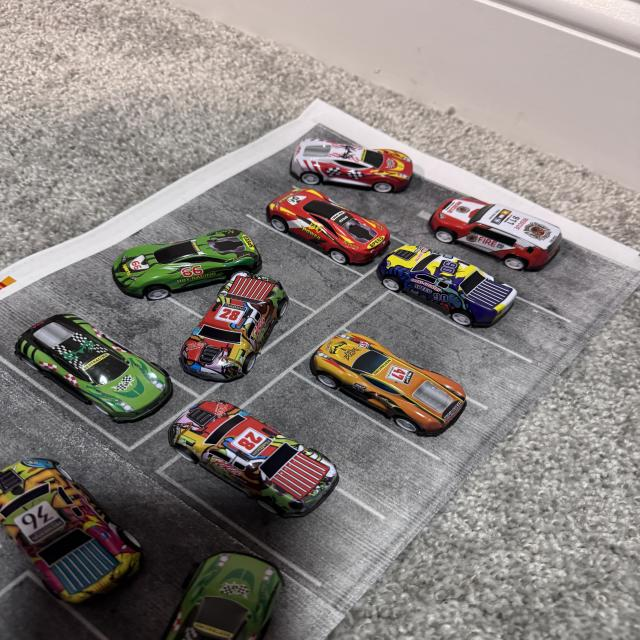car: (134, 368, 358, 554), (0, 319, 205, 457), (0, 447, 158, 613), (148, 535, 339, 640), (369, 220, 541, 332), (251, 178, 400, 300), (323, 315, 461, 422), (93, 220, 254, 305), (269, 119, 423, 193), (444, 184, 570, 263), (179, 268, 271, 371)
